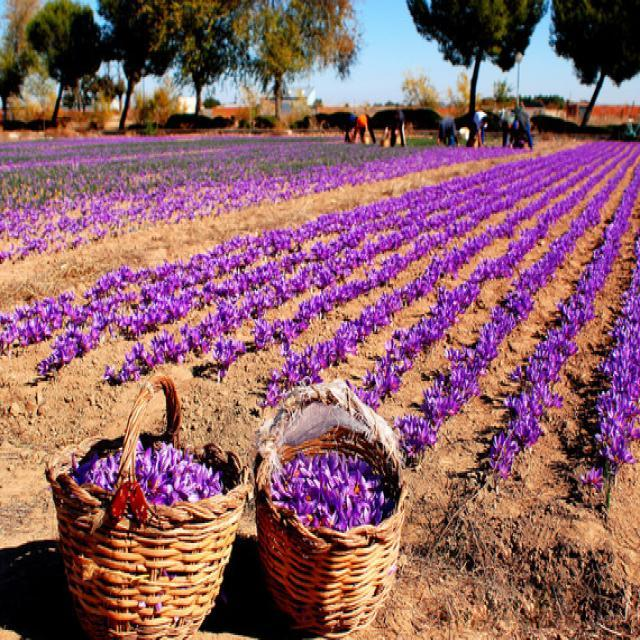Flower: (0, 142, 640, 478), (90, 442, 222, 504), (276, 454, 396, 518), (586, 438, 640, 521)
